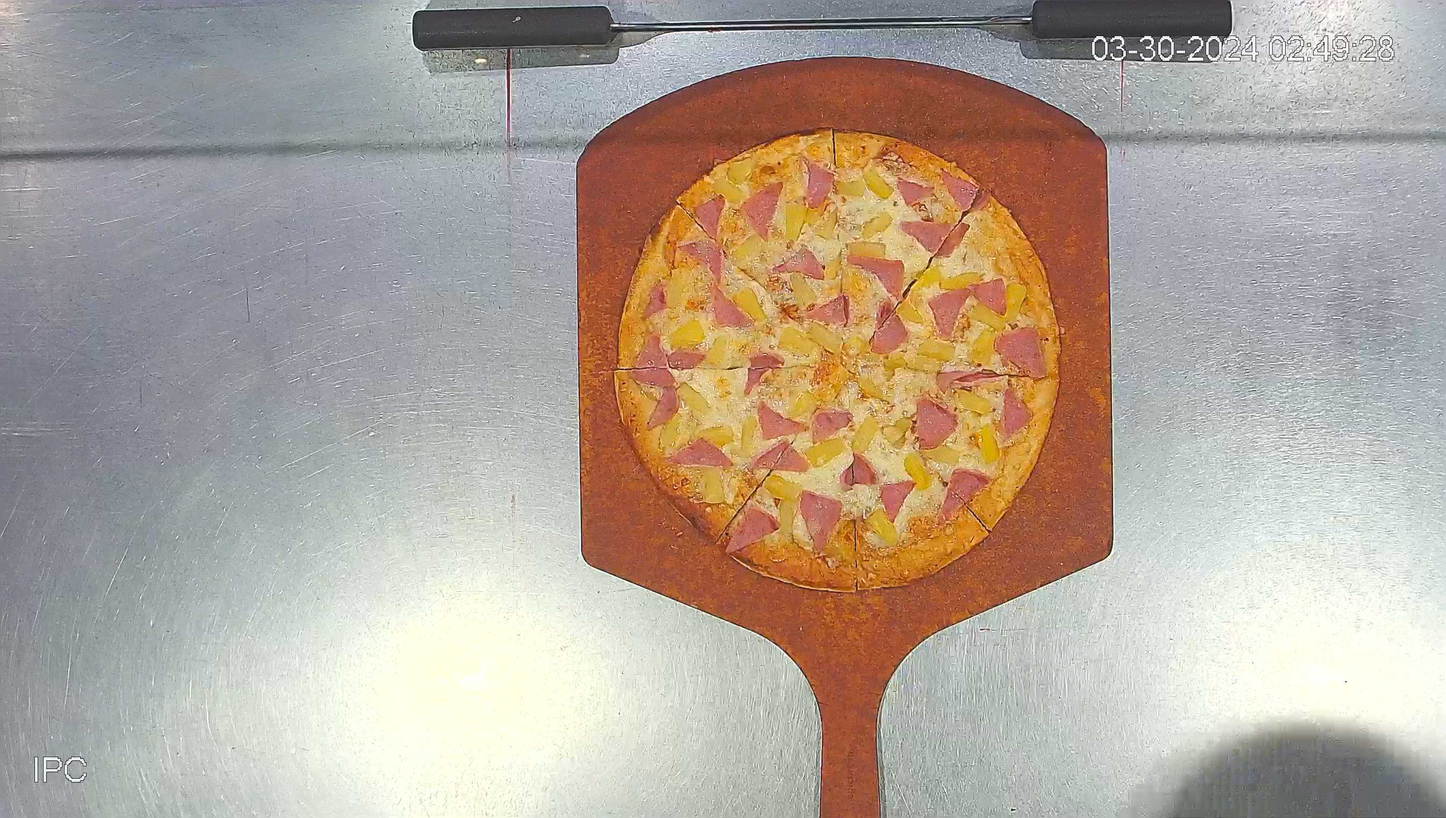manager_choice: (610, 129, 1061, 595)
